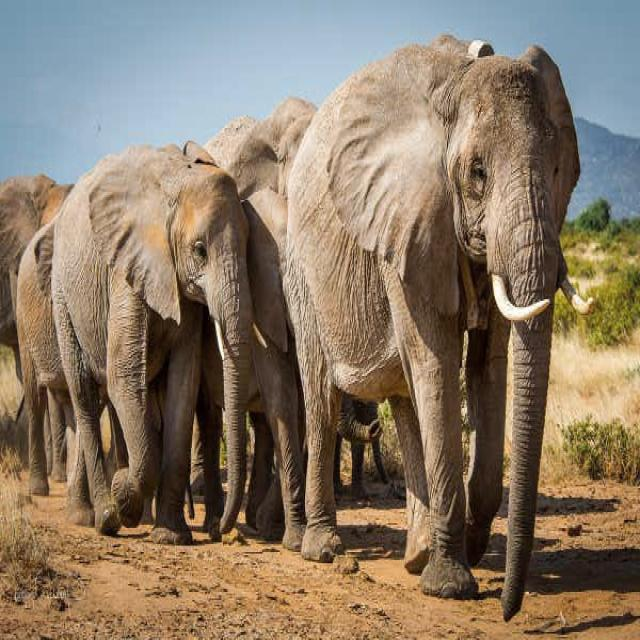elephant: (285, 37, 591, 619), (51, 146, 253, 539)
